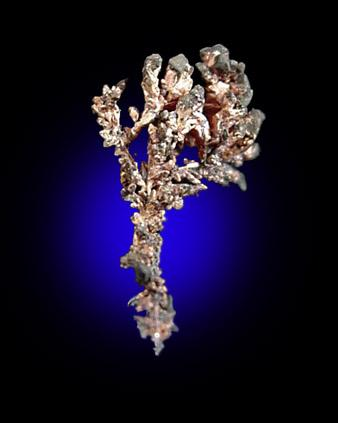copper: (121, 56, 210, 354), (196, 44, 265, 190), (91, 80, 146, 210), (143, 54, 194, 111)
